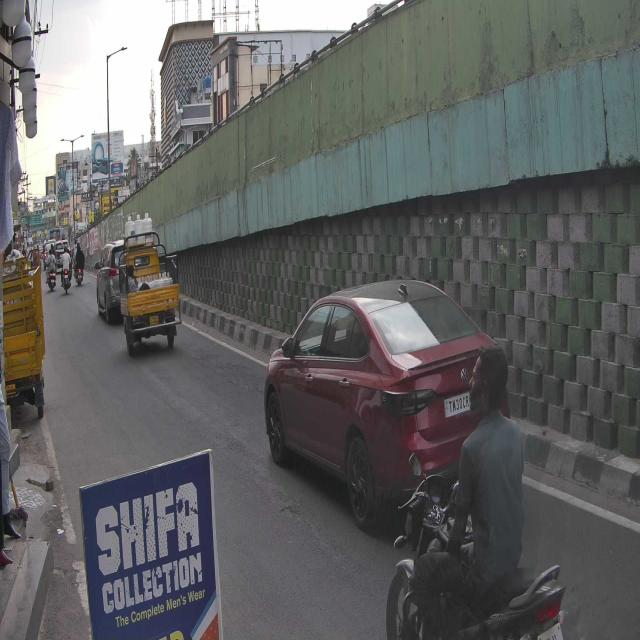single_rider: (383, 352, 568, 640)
